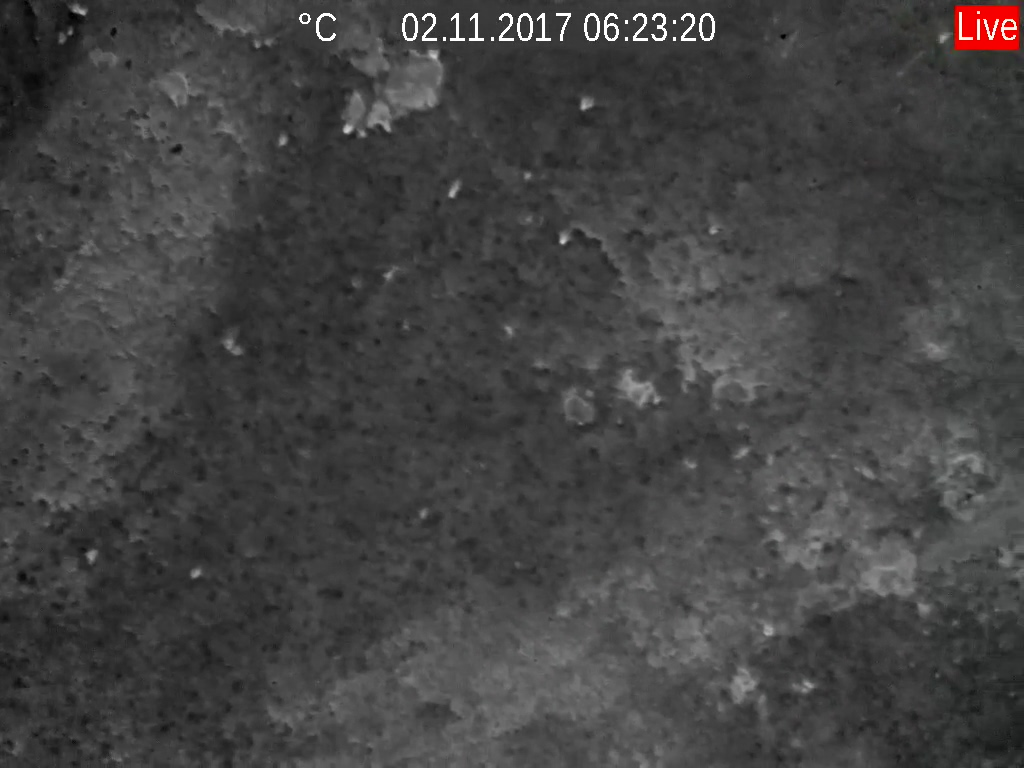warren: (440, 173, 464, 202), (340, 104, 359, 139), (554, 225, 574, 249), (577, 92, 596, 114)
